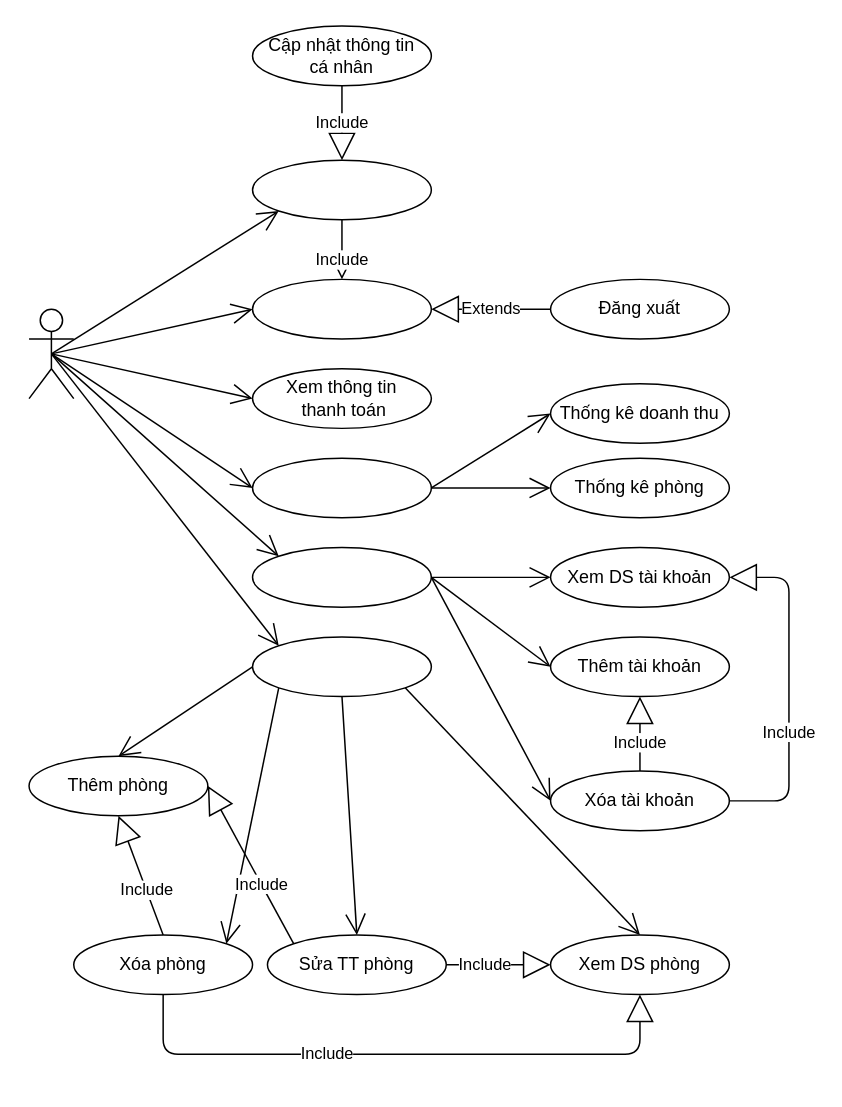
Image size: 842x1107. Some labels were removed from this diagram. The centre of each missing label's shape, as x and y in pixels:
"Admin" belongs at point (51, 353).
"QL phòng" belongs at point (341, 666).
"QL tài khoản" belongs at point (341, 576).
"Thống kê" belongs at point (341, 487).
"Xem thông tin cá nhân" belongs at point (341, 189).
"Đăng nhập" belongs at point (341, 308).
